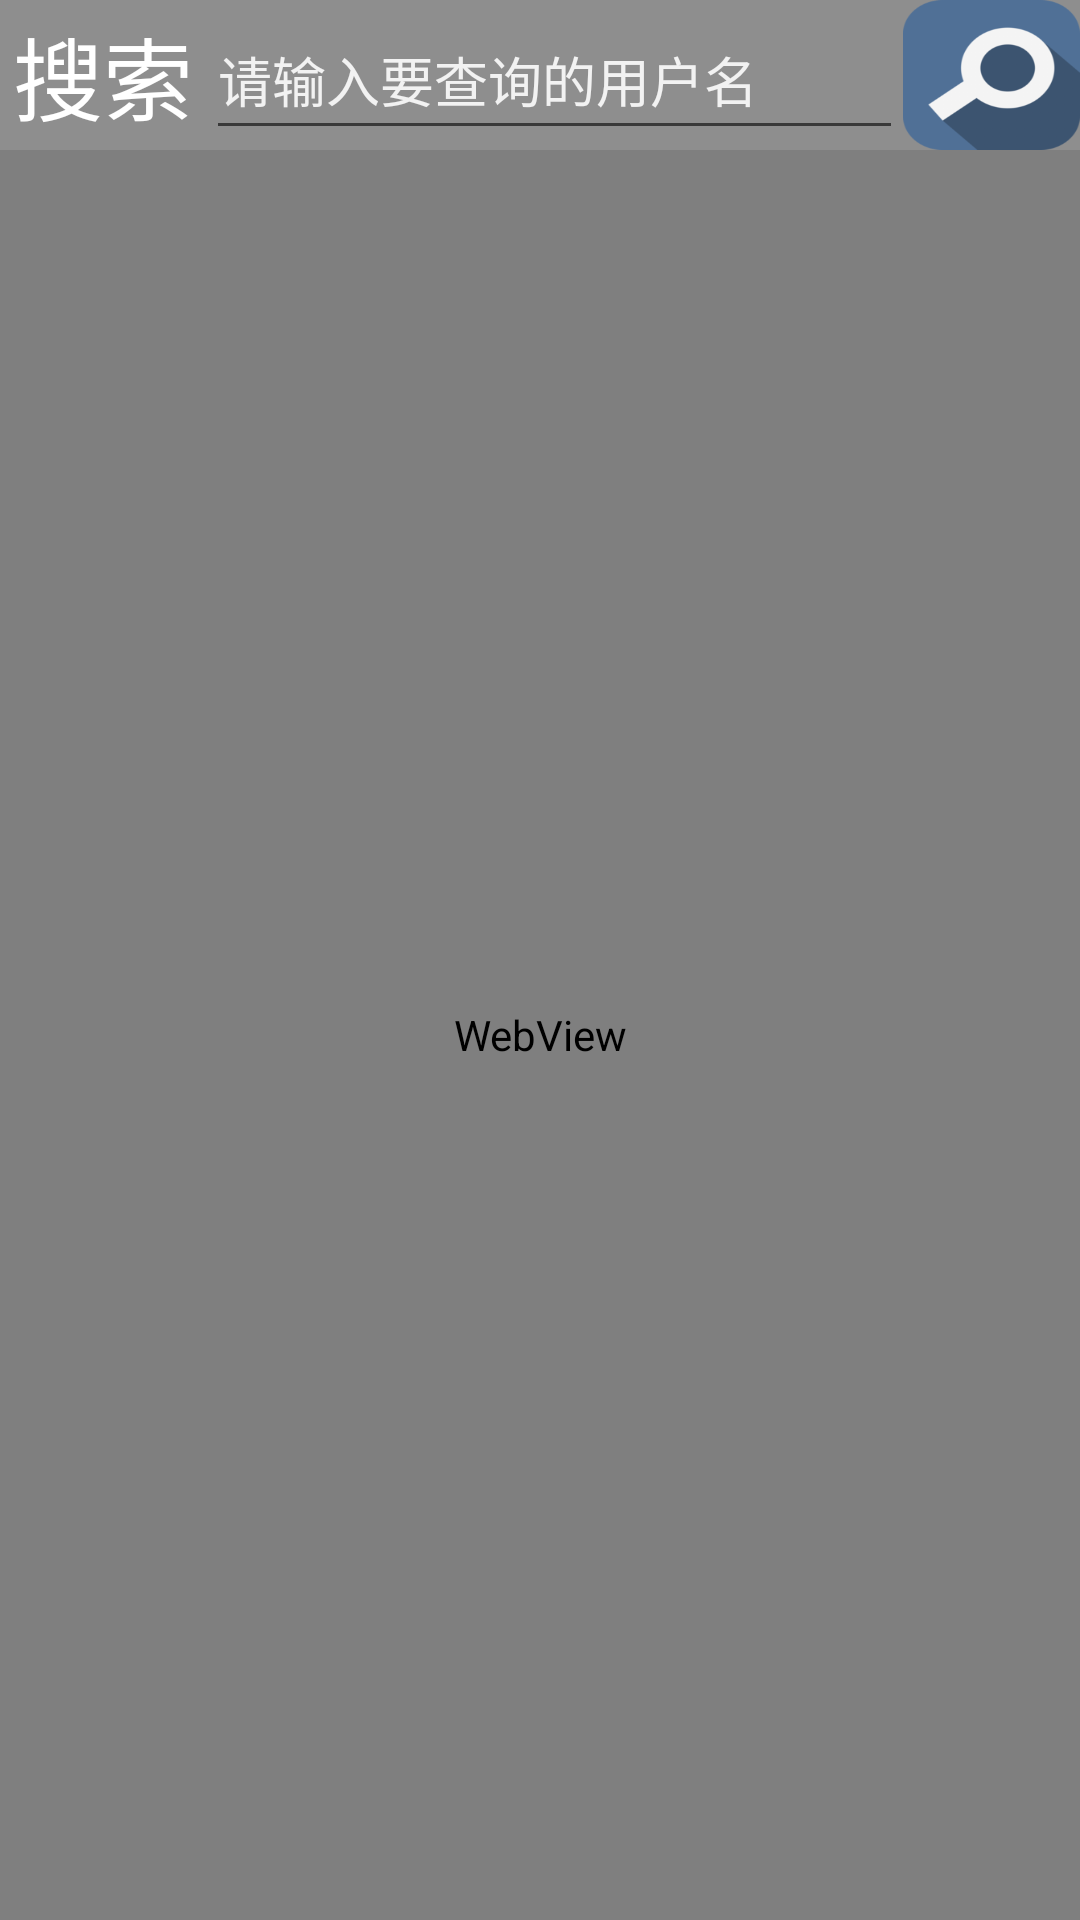

Screen size 1080*1920. Icon name, then its center in pixels as [x,y]:
search: [991,75]
